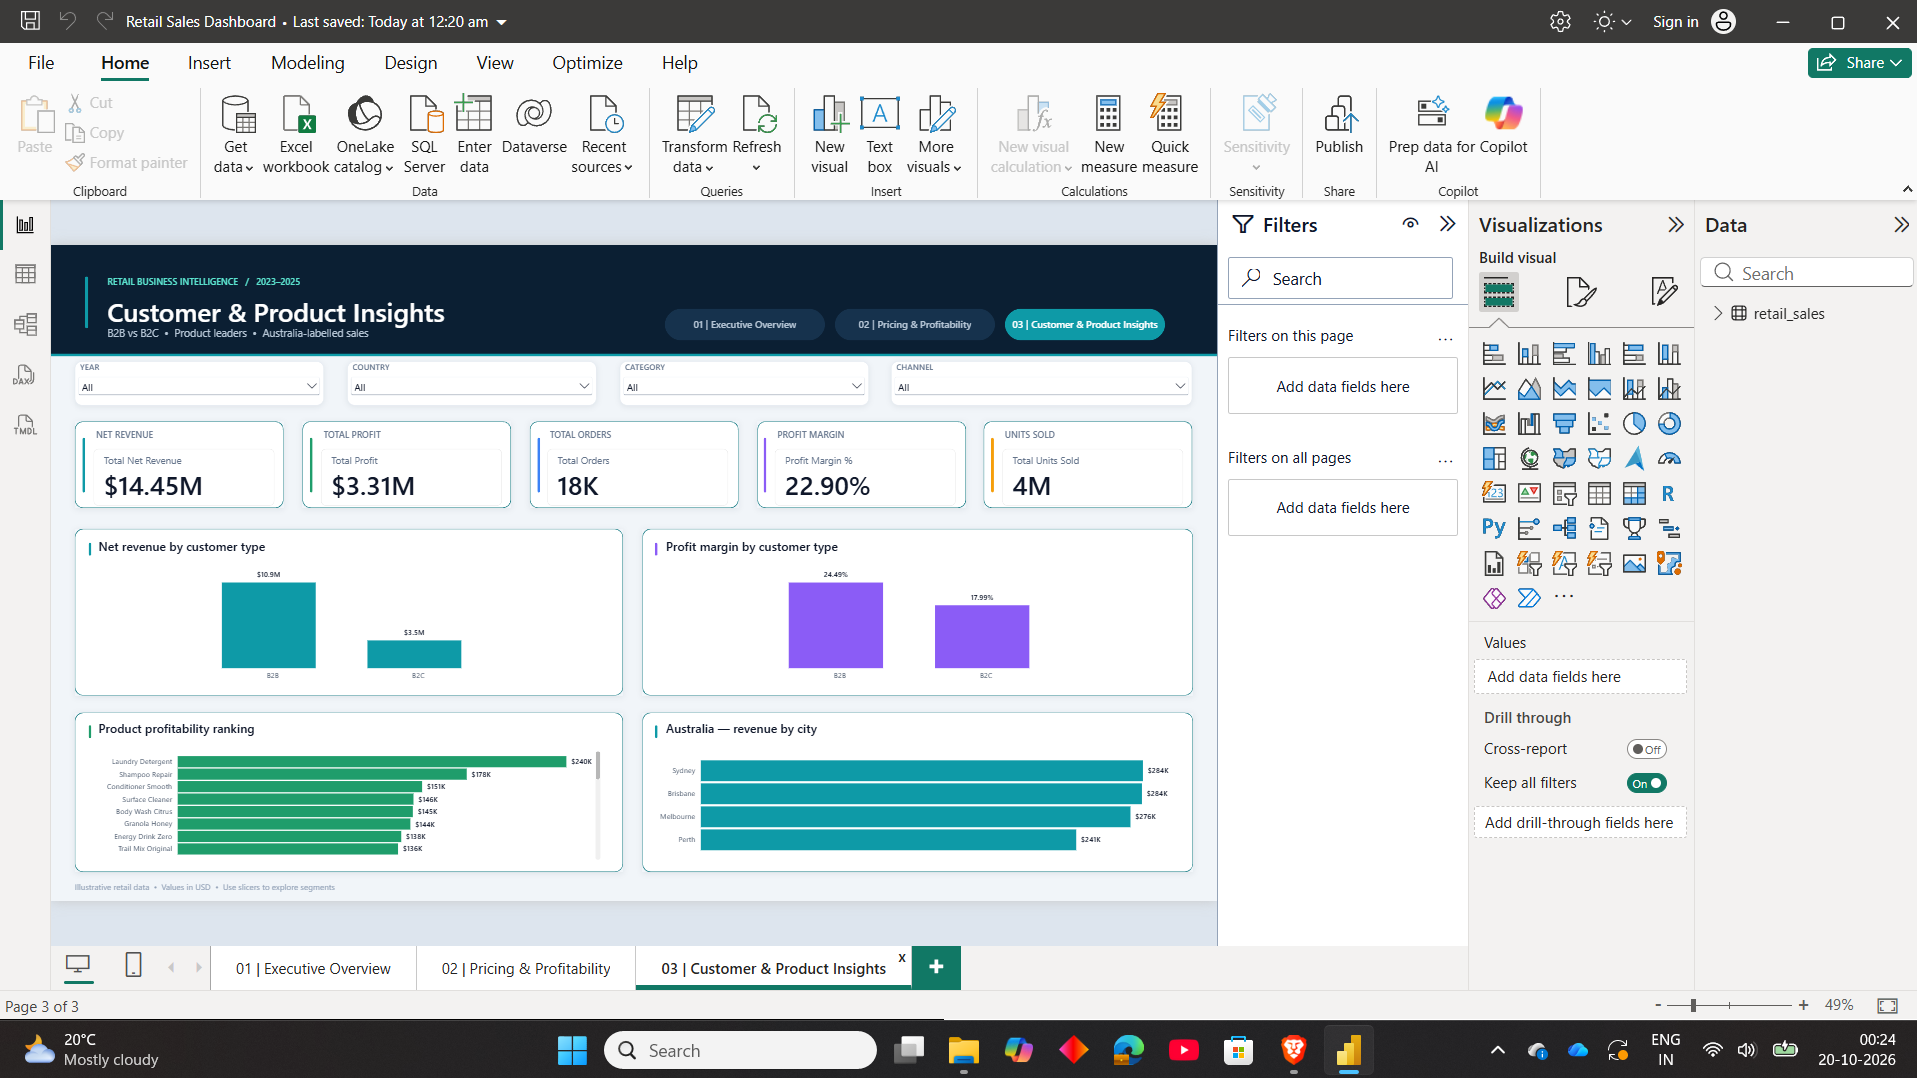

Layout of this report page (visuals, bound fields, positions):
{"tool":"powerbi","page":{"name":"03 | Customer & Product Insights","canvas":[1920,1080],"ordinal":2},"visuals":[{"type":"shape","box":[0,0,1920,180],"z":100},{"type":"shape","box":[0,180,1920,4],"z":120},{"type":"shape","box":[40,467,903,275],"z":140},{"type":"shape","box":[973,467,907,275],"z":140},{"type":"shape","box":[40,769,903,263],"z":140},{"type":"shape","box":[973,769,907,263],"z":140},{"type":"shape","box":[56,52,6,86],"z":150},{"type":"shape","box":[40,291,344,143],"z":150},{"type":"shape","box":[414,291,344,143],"z":150},{"type":"shape","box":[788,291,344,143],"z":150},{"type":"shape","box":[1162,291,344,143],"z":150},{"type":"shape","box":[1536,291,344,143],"z":150},{"type":"shape","box":[52,317,5,91],"z":180},{"type":"shape","box":[426,317,5,91],"z":180},{"type":"shape","box":[800,317,5,91],"z":180},{"type":"shape","box":[1174,317,5,91],"z":180},{"type":"shape","box":[1548,317,5,91],"z":180},{"type":"shape","box":[62,489,5,22],"z":185},{"type":"shape","box":[995,489,5,22],"z":185},{"type":"shape","box":[62,791,5,22],"z":185},{"type":"shape","box":[995,791,5,22],"z":185},{"type":"textbox","box":[79,481,845,43],"z":230},{"type":"textbox","box":[1012,481,849,43],"z":230},{"type":"textbox","box":[79,783,845,43],"z":230},{"type":"textbox","box":[1012,783,849,43],"z":230},{"type":"textbox","box":[74,303,294,33],"z":250},{"type":"textbox","box":[448,303,294,33],"z":250},{"type":"textbox","box":[822,303,294,33],"z":250},{"type":"textbox","box":[1196,303,294,33],"z":250},{"type":"textbox","box":[1570,303,294,33],"z":250},{"type":"textbox","box":[40,1046,1810,28],"z":310},{"type":"textbox","box":[92,50,1000,28],"z":400},{"type":"textbox","box":[92,80,1070,59],"z":500},{"type":"textbox","box":[92,134,1010,26],"z":500},{"type":"cardVisual","fields":{"Data":["retail_sales.Total Net Revenue"]},"box":[70,336,298,94],"z":600},{"type":"cardVisual","fields":{"Data":["retail_sales.Total Profit"]},"box":[444,336,298,94],"z":600},{"type":"cardVisual","fields":{"Data":["retail_sales.Total Orders"]},"box":[818,336,298,94],"z":600},{"type":"cardVisual","fields":{"Data":["retail_sales.Profit Margin %"]},"box":[1192,336,298,94],"z":600},{"type":"cardVisual","fields":{"Data":["retail_sales.Total Units Sold"]},"box":[1566,336,298,94],"z":600},{"type":"columnChart","fields":{"Category":["retail_sales.Customer_Type"],"Y":["retail_sales.Total Net Revenue"]},"box":[57,523,871,207],"z":700},{"type":"columnChart","fields":{"Category":["retail_sales.Customer_Type"],"Y":["retail_sales.Profit Margin %"]},"box":[990,523,875,207],"z":700},{"type":"barChart","fields":{"Category":["retail_sales.Product_Name"],"Y":["retail_sales.Total Profit"]},"box":[57,825,871,195],"z":700},{"type":"barChart","fields":{"Category":["retail_sales.City"],"Y":["retail_sales.Total Net Revenue"]},"box":[990,825,875,195],"z":700},{"type":"slicer","fields":{"Values":["retail_sales.Year"]},"box":[40,192,410,73],"z":740},{"type":"slicer","fields":{"Values":["retail_sales.Country"]},"box":[488,192,410,73],"z":740},{"type":"slicer","fields":{"Values":["retail_sales.Product_Category"]},"box":[936,192,410,73],"z":740},{"type":"slicer","fields":{"Values":["retail_sales.Sales_Channel"]},"box":[1384,192,496,73],"z":740},{"type":"pageNavigator","box":[1010,104,824,52],"z":1200}]}

Visuals, with their boxes on the page's 1920x1080 design canvas (x1, y1, x2, y2). These are canvas units, not pixel positions in the 1917x1078 screenshot, which may show the page scaled, cropped or inside an application window:
shape: 0 0 1920 180
shape: 0 180 1920 184
shape: 40 467 943 742
shape: 973 467 1880 742
shape: 40 769 943 1032
shape: 973 769 1880 1032
shape: 56 52 62 138
shape: 40 291 384 434
shape: 414 291 758 434
shape: 788 291 1132 434
shape: 1162 291 1506 434
shape: 1536 291 1880 434
shape: 52 317 57 408
shape: 426 317 431 408
shape: 800 317 805 408
shape: 1174 317 1179 408
shape: 1548 317 1553 408
shape: 62 489 67 511
shape: 995 489 1000 511
shape: 62 791 67 813
shape: 995 791 1000 813
textbox: 79 481 924 524
textbox: 1012 481 1861 524
textbox: 79 783 924 826
textbox: 1012 783 1861 826
textbox: 74 303 368 336
textbox: 448 303 742 336
textbox: 822 303 1116 336
textbox: 1196 303 1490 336
textbox: 1570 303 1864 336
textbox: 40 1046 1850 1074
textbox: 92 50 1092 78
textbox: 92 80 1162 139
textbox: 92 134 1102 160
cardVisual - retail_sales.Total Net Revenue: 70 336 368 430
cardVisual - retail_sales.Total Profit: 444 336 742 430
cardVisual - retail_sales.Total Orders: 818 336 1116 430
cardVisual - retail_sales.Profit Margin %: 1192 336 1490 430
cardVisual - retail_sales.Total Units Sold: 1566 336 1864 430
columnChart - retail_sales.Customer_Type x retail_sales.Total Net Revenue: 57 523 928 730
columnChart - retail_sales.Customer_Type x retail_sales.Profit Margin %: 990 523 1865 730
barChart - retail_sales.Product_Name x retail_sales.Total Profit: 57 825 928 1020
barChart - retail_sales.City x retail_sales.Total Net Revenue: 990 825 1865 1020
slicer - retail_sales.Year: 40 192 450 265
slicer - retail_sales.Country: 488 192 898 265
slicer - retail_sales.Product_Category: 936 192 1346 265
slicer - retail_sales.Sales_Channel: 1384 192 1880 265
pageNavigator: 1010 104 1834 156
